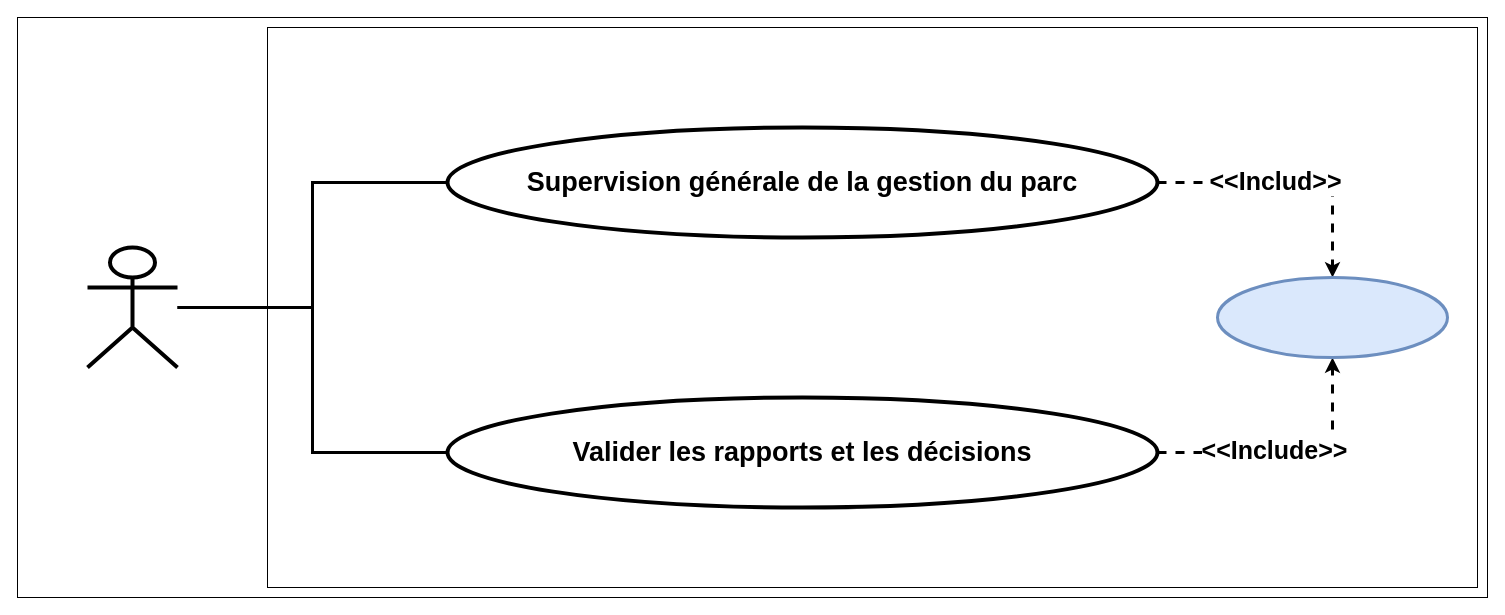
This 1505x615 diagram has some shape labels left out. Each missing label, with the centre of its shape:
Authentification: point 1332,317
Chef departement moyenne généraux: point 132,307
